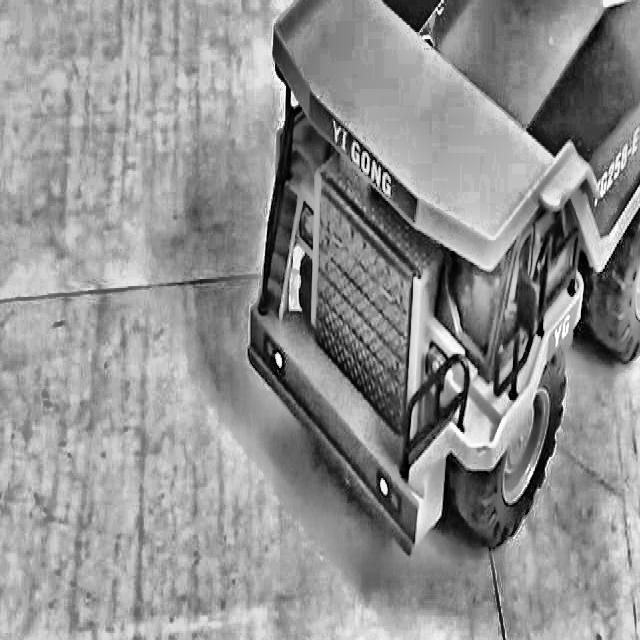dump_truck: (218, 0, 640, 564)
